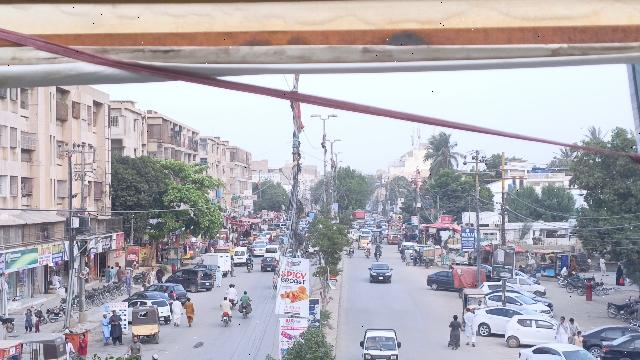Bike: (238, 303, 252, 319), (221, 310, 231, 329), (228, 297, 237, 309)
Car: (473, 305, 534, 339), (504, 311, 560, 348), (581, 324, 630, 358), (166, 267, 215, 293), (599, 334, 640, 360), (425, 265, 453, 291), (366, 261, 394, 286)
Person: (460, 306, 481, 349), (445, 313, 465, 351), (108, 309, 126, 347), (169, 295, 184, 329), (553, 314, 570, 342), (99, 310, 111, 346), (184, 296, 197, 328), (218, 296, 234, 315), (565, 314, 579, 333), (239, 290, 252, 308), (572, 328, 584, 346), (227, 284, 238, 300)
Rickshaw: (129, 304, 162, 346), (460, 288, 488, 319)
Suzuki: (356, 326, 404, 360)
Truck: (201, 251, 232, 275)
